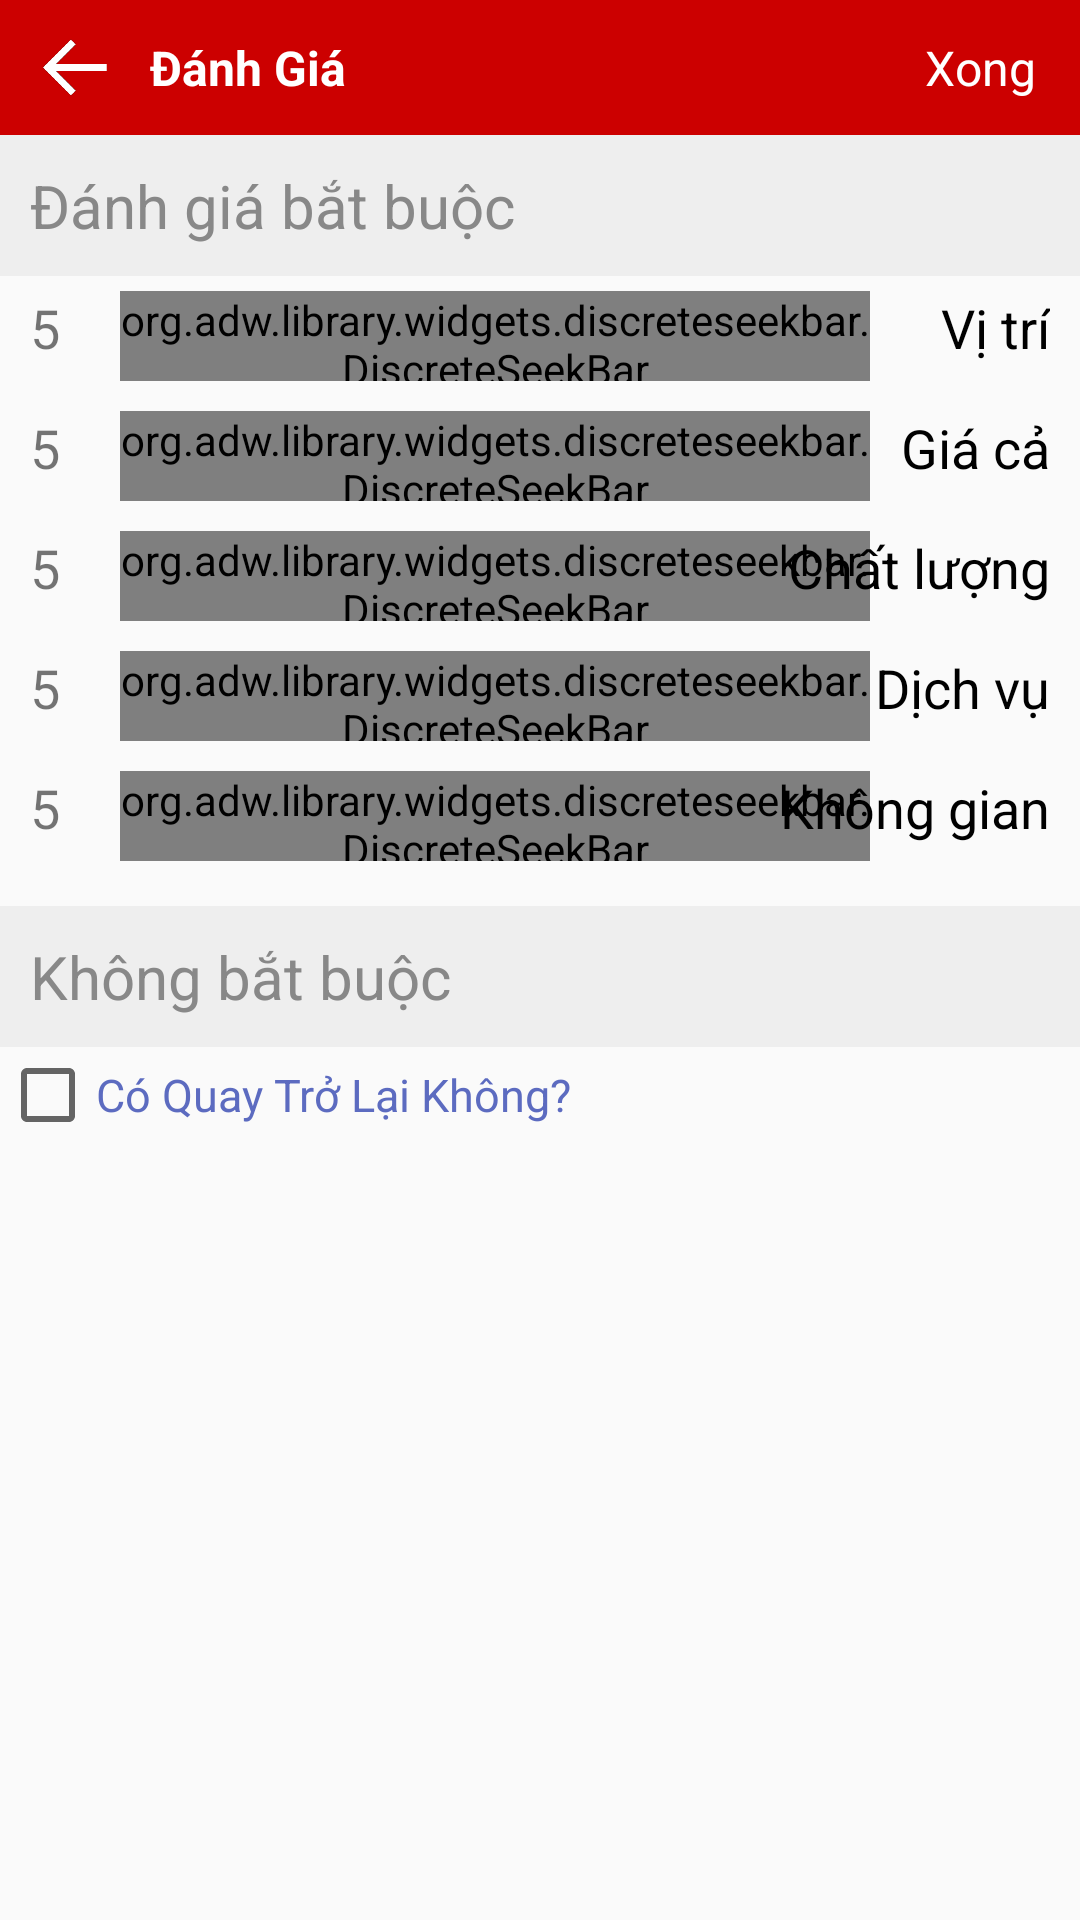

Icon click points for this 1080px×1920px phone screenshot, format point (x, y):
back: point (75, 67)
